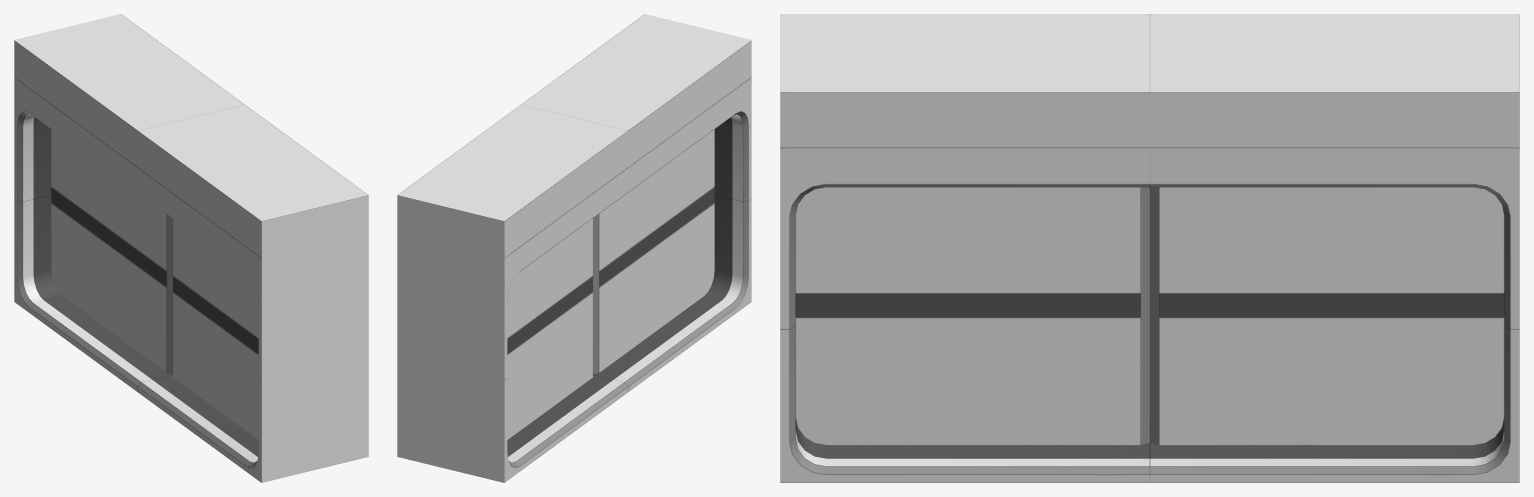
File: Wall_Int_Door_02.FBX
The picture shows the model from 3 angles, left to right: view 1: azimuth 30°, elevation 25°; view 2: azimuth 150°, elevation 25°; view 3: azimuth 270°, elevation 25°; orthographic projection. The views are drawn at different scales.
Visible parts, largest first — view 1: Wall_Int_Door_02, Door_A, Door_B; view 2: Wall_Int_Door_02, Door_B, Door_A; view 3: Wall_Int_Door_02, Door_A, Door_B.
Part boxes in pixels (bbox=[...]): Wall_Int_Door_02: bbox=[14, 14, 368, 482]; Door_A: bbox=[51, 129, 172, 374]; Door_B: bbox=[173, 218, 258, 439]; Wall_Int_Door_02: bbox=[397, 14, 751, 482]; Door_B: bbox=[593, 129, 714, 374]; Door_A: bbox=[507, 218, 592, 439]; Wall_Int_Door_02: bbox=[780, 14, 1519, 482]; Door_A: bbox=[1150, 187, 1504, 445]; Door_B: bbox=[795, 187, 1149, 445].
Size of the model in its own units: 3 by 7 by 12.
